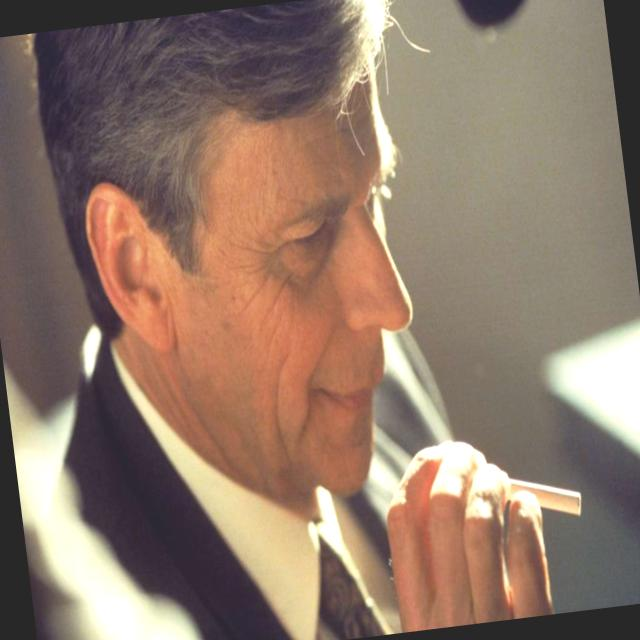smoke: (496, 448, 614, 549)
